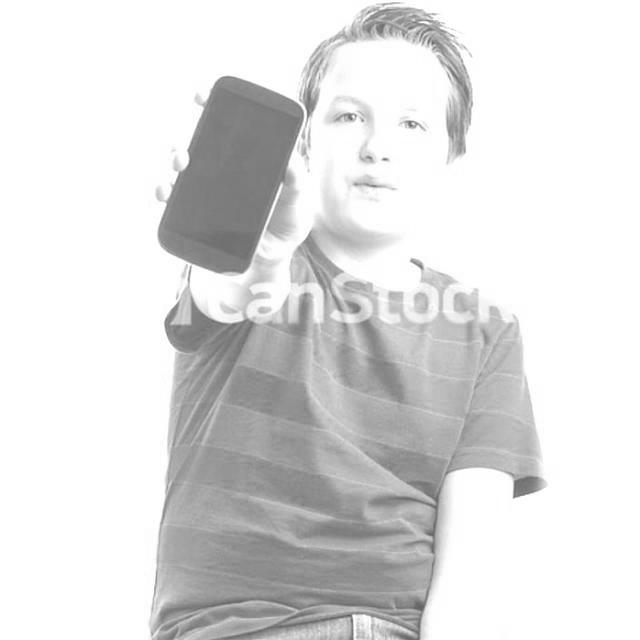fake: (153, 70, 308, 276)
real: (327, 53, 444, 234)
